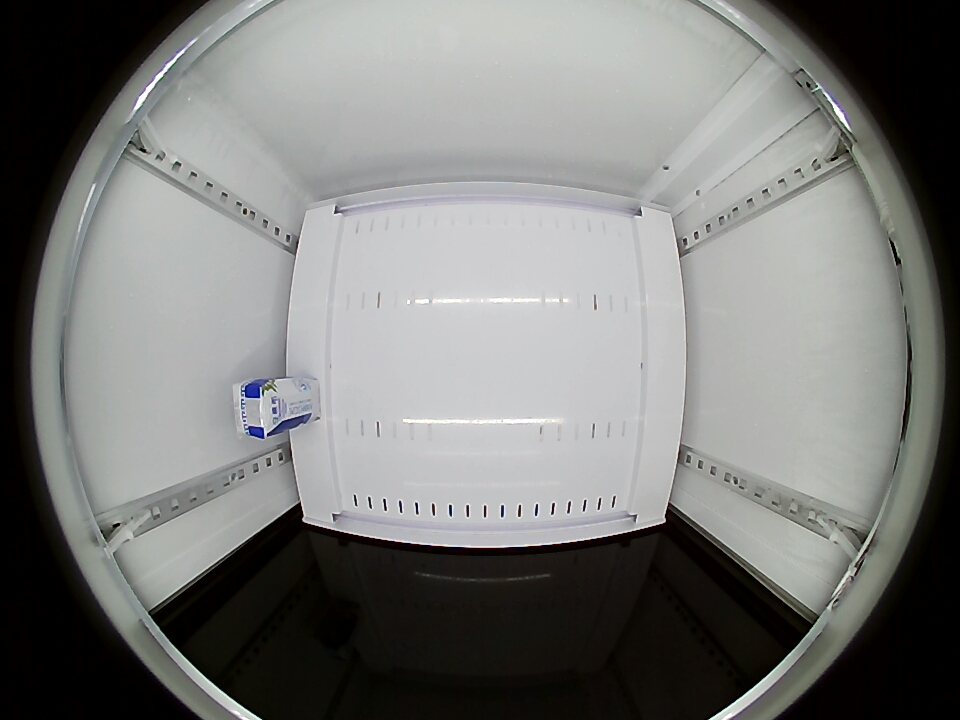anmuxi: (233, 378, 282, 439)
